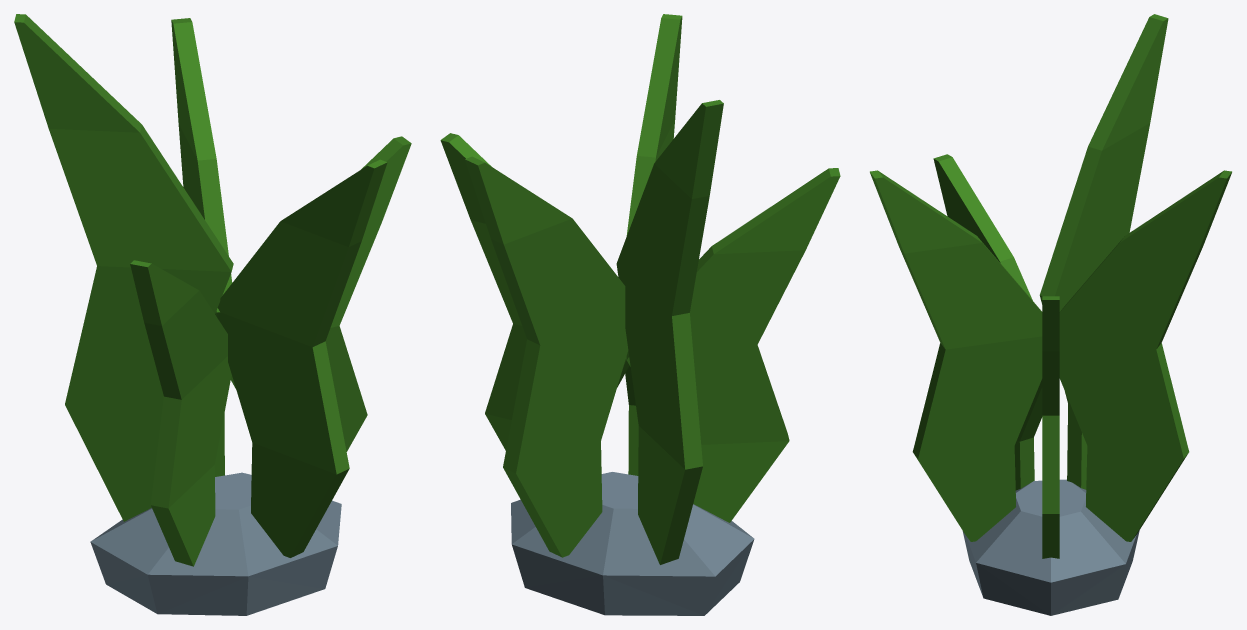
File: EM_KelpCluster.fbx
3 renders of one model, left to right at view 1: azimuth 30°, elevation 25°; view 2: azimuth 150°, elevation 25°; view 3: azimuth 270°, elevation 25°, orthographic. The views are drawn at different scales.
Parts seen in each view (by area): view 1: EM_KelpCluster; view 2: EM_KelpCluster; view 3: EM_KelpCluster.
Part boxes in pixels (x1=…): EM_KelpCluster: x1=14, y1=14, x2=411, y2=615; EM_KelpCluster: x1=440, y1=14, x2=840, y2=615; EM_KelpCluster: x1=870, y1=14, x2=1231, y2=615.
Size of the model in its own units: 0.7143 by 1.12 by 0.751.
